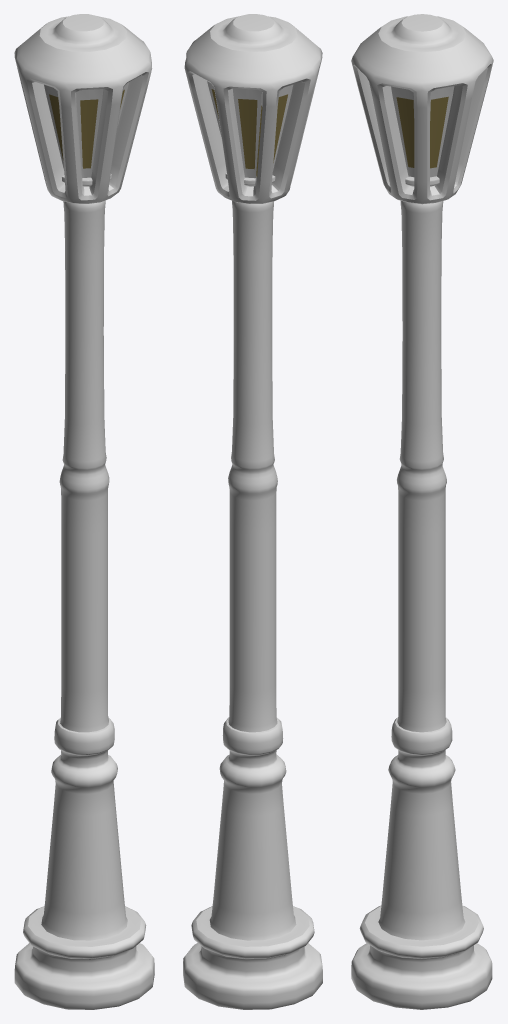
Rendered from Lighttown.fbx.
3 renders of one model, left to right at view 1: azimuth 30°, elevation 25°; view 2: azimuth 150°, elevation 25°; view 3: azimuth 270°, elevation 25°, orthographic.
Visible parts, largest first — view 1: Cylinder, Cylinder.001; view 2: Cylinder, Cylinder.001; view 3: Cylinder, Cylinder.001.
Boxes of the visible parts, x1,y1,x2,y2 form: Cylinder: (14,174,154,1009); Cylinder.001: (14,14,152,203); Cylinder: (183,173,322,1009); Cylinder.001: (184,14,322,203); Cylinder: (351,176,492,1009); Cylinder.001: (351,14,493,204).
Size of the model in its own units: 183 by 182 by 1352.
